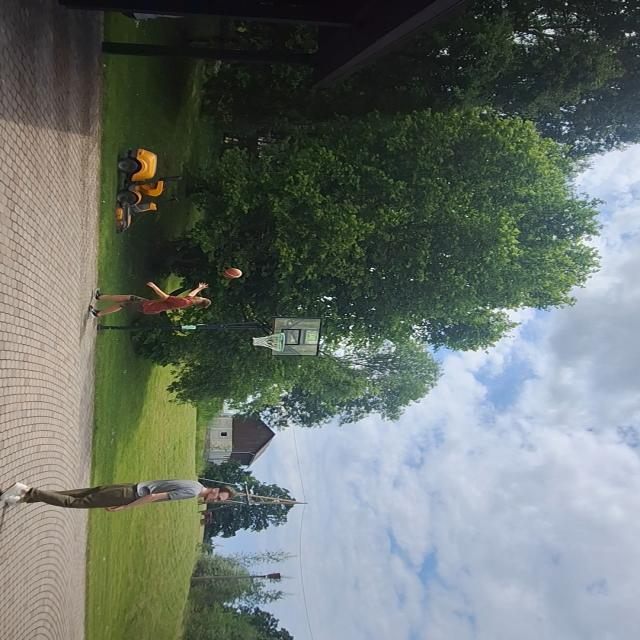ball: (222, 266, 245, 281)
hoop: (249, 331, 290, 352)
player: (0, 479, 234, 514), (88, 283, 211, 319)
